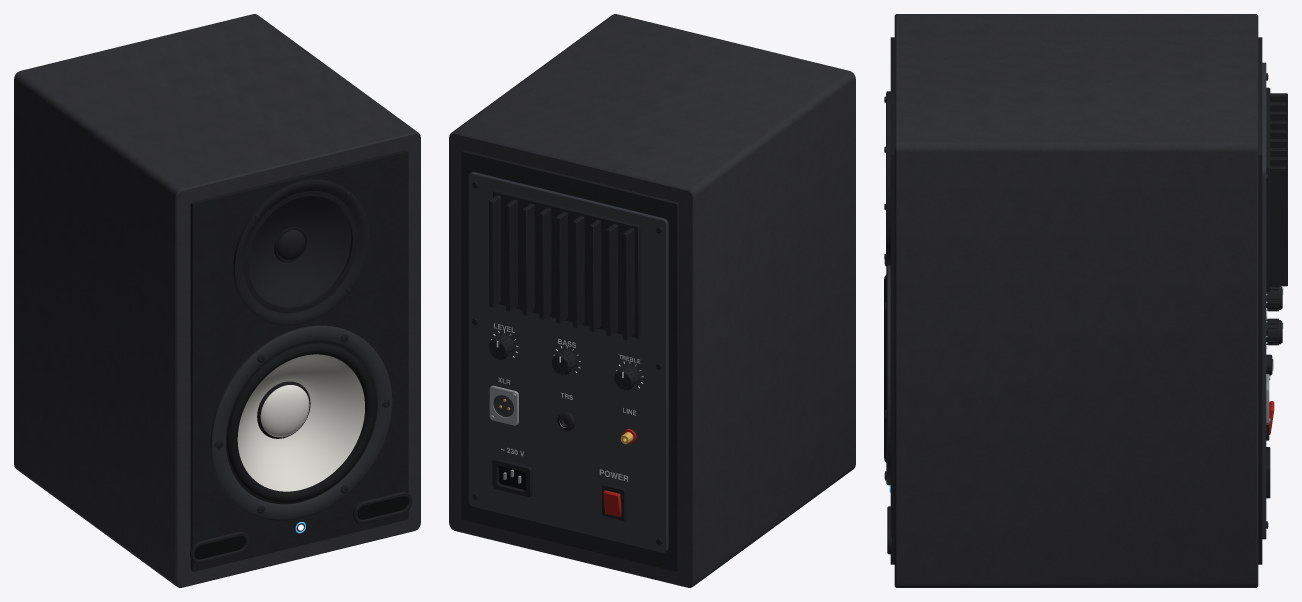
File: studio-monitor.glb
3 views of the same model, side by side, from view 1: azimuth 30°, elevation 25°; view 2: azimuth 150°, elevation 25°; view 3: azimuth 270°, elevation 25° (orthographic). The views are drawn at different scales.
Parts seen in each view (by area): view 1: Studio_Monitor; view 2: Studio_Monitor; view 3: Studio_Monitor.
Boxes of the visible parts, x1,y1,x2,y2 form: Studio_Monitor: [14, 14, 420, 587]; Studio_Monitor: [449, 14, 855, 587]; Studio_Monitor: [884, 14, 1287, 587].
Size of the model in its own units: 0.235 by 0.371 by 0.2998.
Materials: 19 (4 with a texture image).
